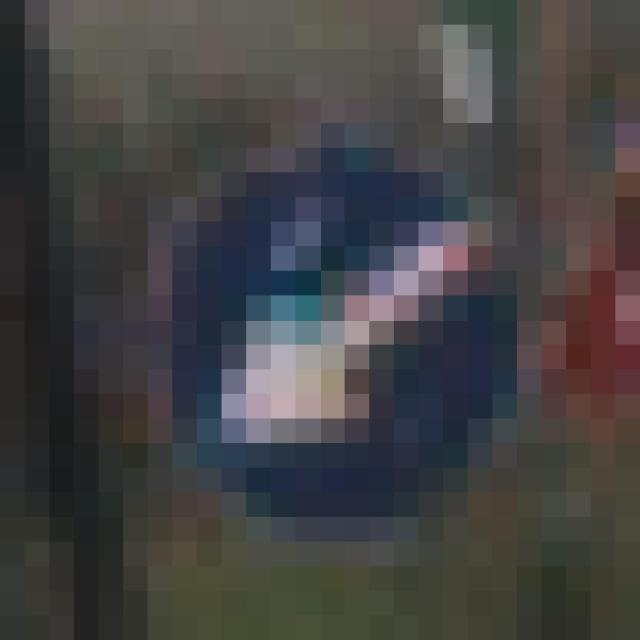Keep-Left: (148, 123, 566, 542)
